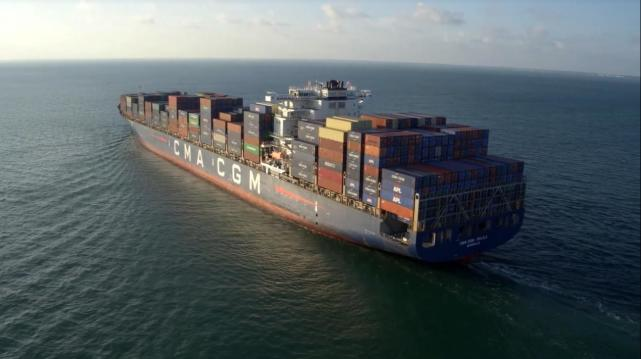Cargoship: (115, 74, 541, 269)
